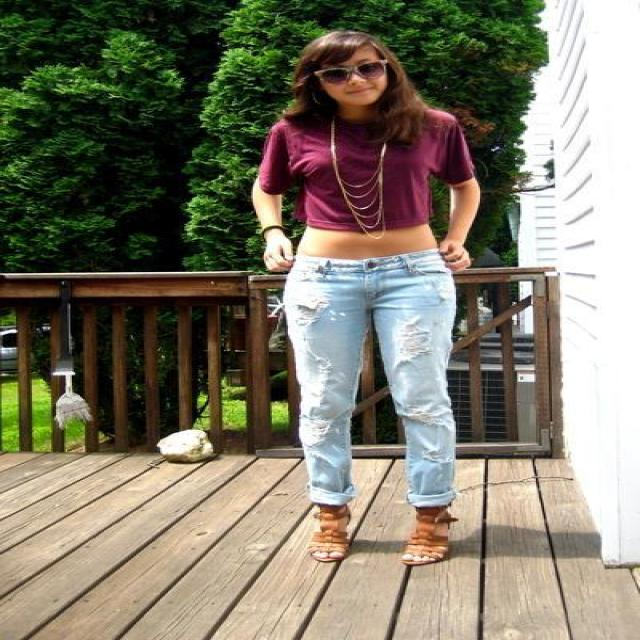pants: (278, 248, 478, 508)
shirt: (253, 115, 475, 233)
shoe: (288, 502, 458, 575)
sunglass: (333, 98, 371, 119)
